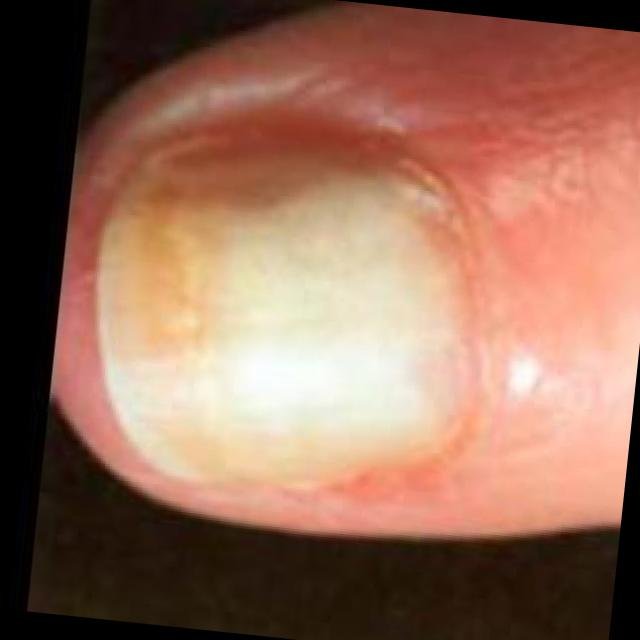Nail: (95, 121, 465, 488)
